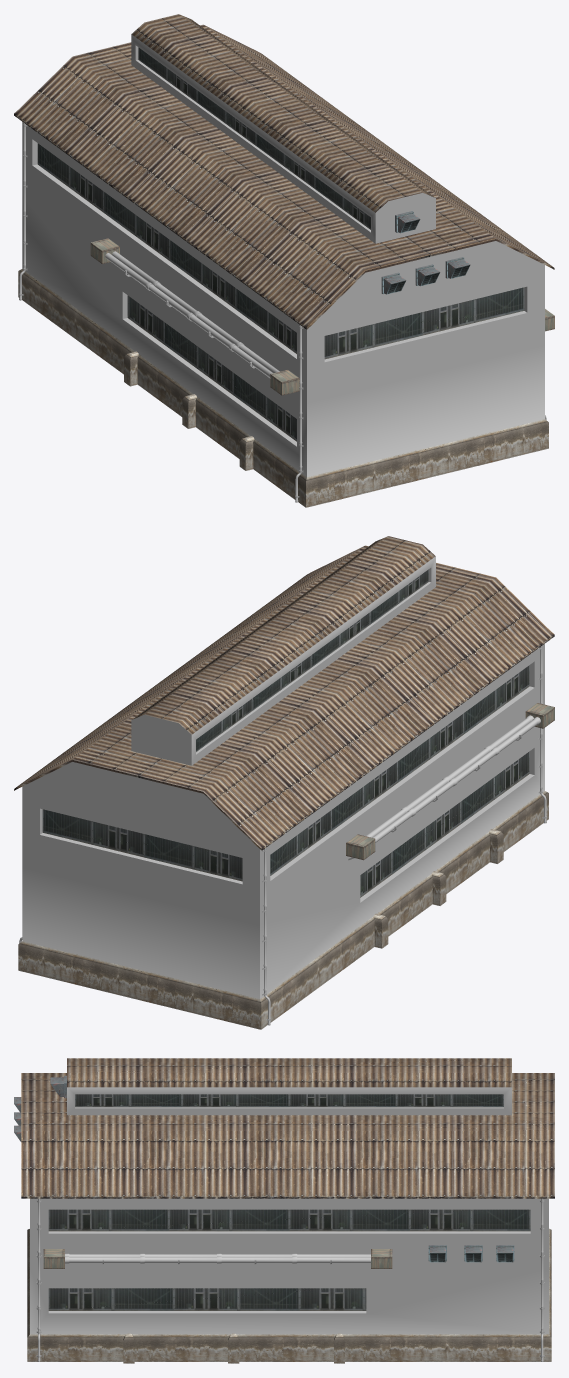
File: hall01_lod0.fbx
3 renders of one model, top to bottom at view 1: azimuth 30°, elevation 25°; view 2: azimuth 150°, elevation 25°; view 3: azimuth 270°, elevation 25°, orthographic. The views are drawn at different scales.
Parts seen in each view (by area): view 1: Mesh Object, Mesh Object_ncl1_1; view 2: Mesh Object, Mesh Object_ncl1_1; view 3: Mesh Object, Mesh Object_ncl1_1.
Boxes of the visible parts, <box> form: Mesh Object: <box>14,14,554,507</box>; Mesh Object_ncl1_1: <box>19,122,554,502</box>; Mesh Object: <box>14,536,554,1029</box>; Mesh Object_ncl1_1: <box>19,645,554,1025</box>; Mesh Object: <box>21,1058,554,1363</box>; Mesh Object_ncl1_1: <box>14,1075,544,1361</box>.
Bounding box in the file's own units: 14.11 × 13.1 × 26.56.
